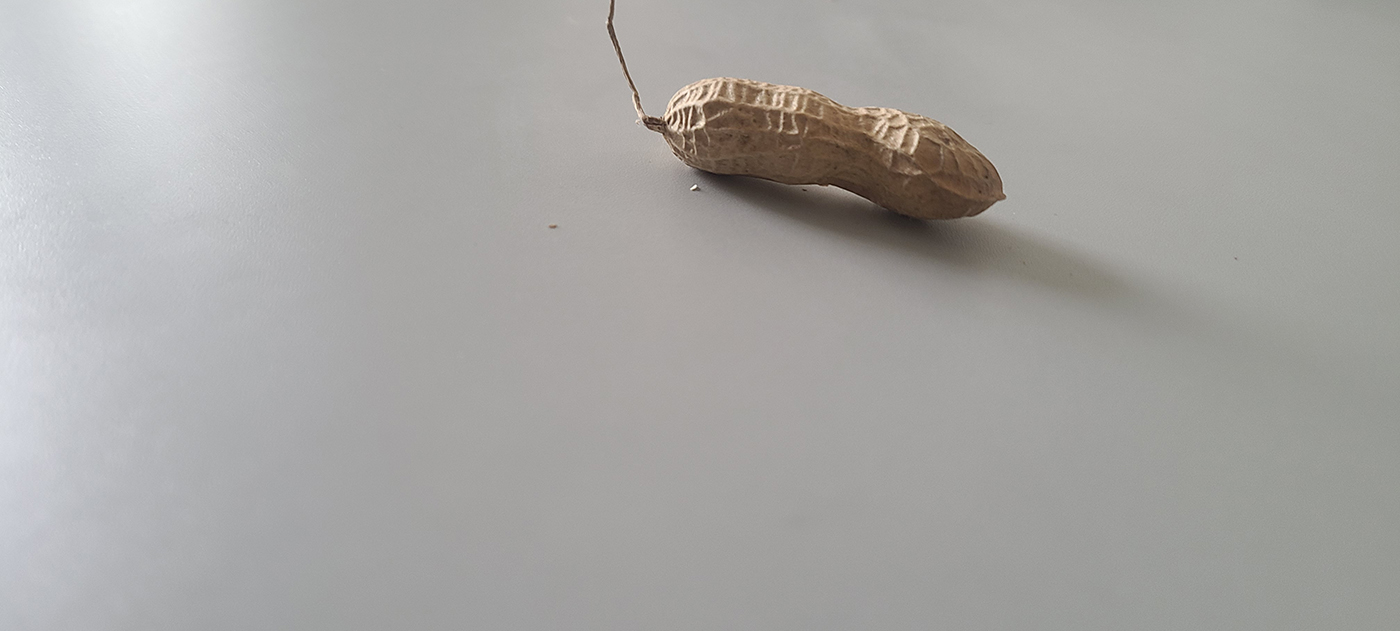h: (662, 78, 1009, 220)
